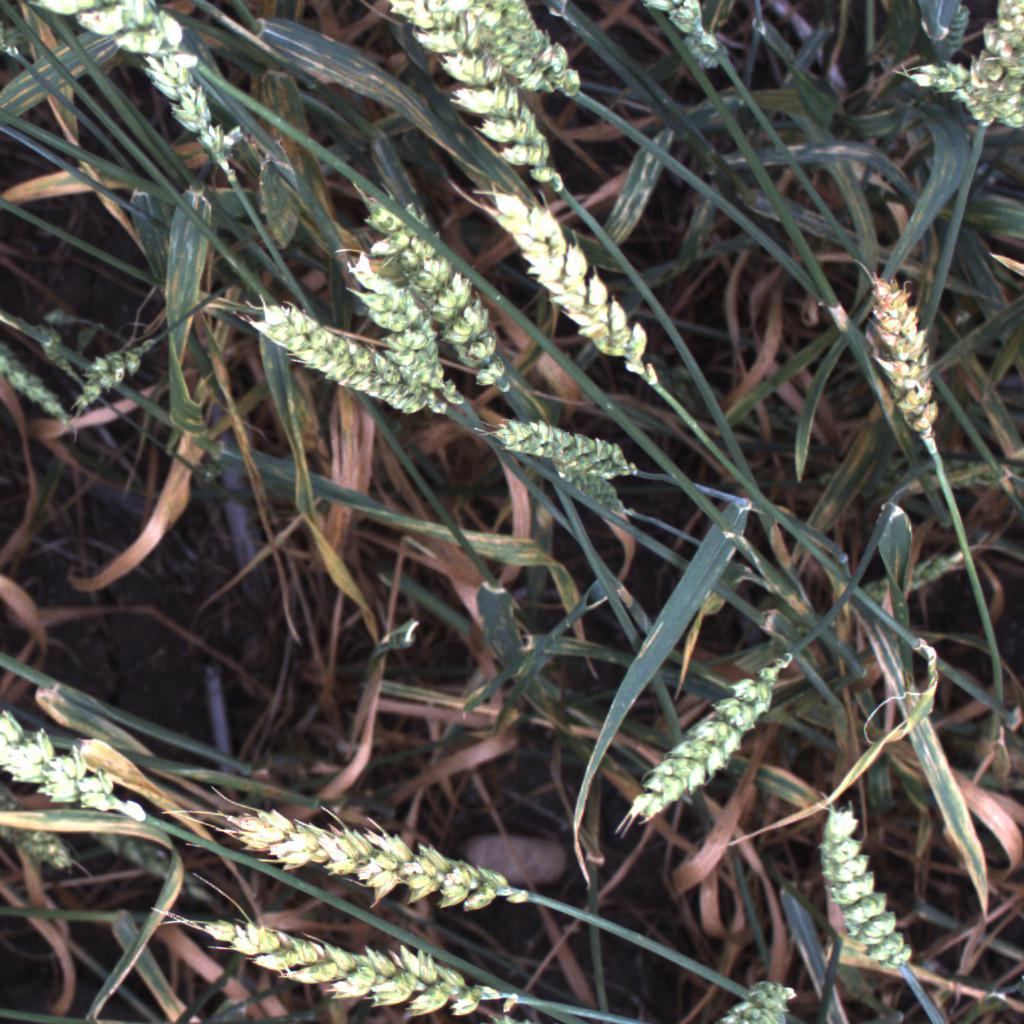0-0: (589, 633, 813, 847), (480, 169, 671, 394), (157, 905, 521, 1020), (205, 791, 537, 917), (378, 1, 575, 204), (344, 171, 516, 399), (224, 285, 449, 424), (323, 240, 470, 420), (806, 783, 926, 980), (0, 698, 161, 832), (855, 249, 958, 450), (131, 50, 243, 189), (451, 0, 593, 103), (28, 0, 212, 77), (477, 408, 645, 492), (58, 327, 170, 426), (516, 462, 649, 541), (891, 52, 1024, 131), (965, 0, 1024, 152), (635, 0, 748, 72), (705, 964, 827, 1024)
